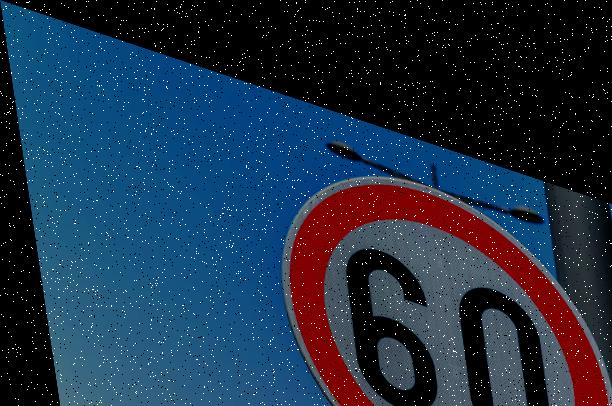Speed Limit -60-: (254, 110, 612, 406)
